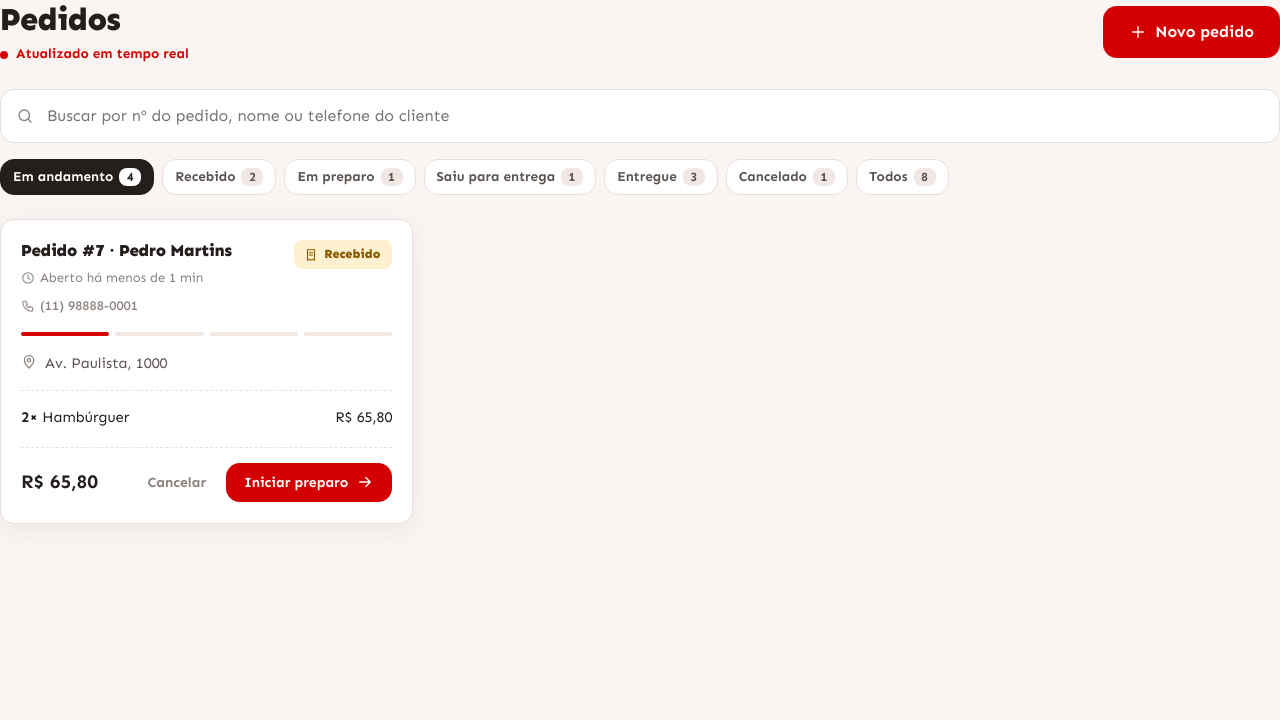
Test: OrdersPage › opens and closes the new order form
Expected: the heading "Pedido #7 · Pedro Martins" is shown, [21, 240, 232, 260]
Click the button "Novo pedido". click: click(1192, 32)
box: [1103, 6, 1279, 58]
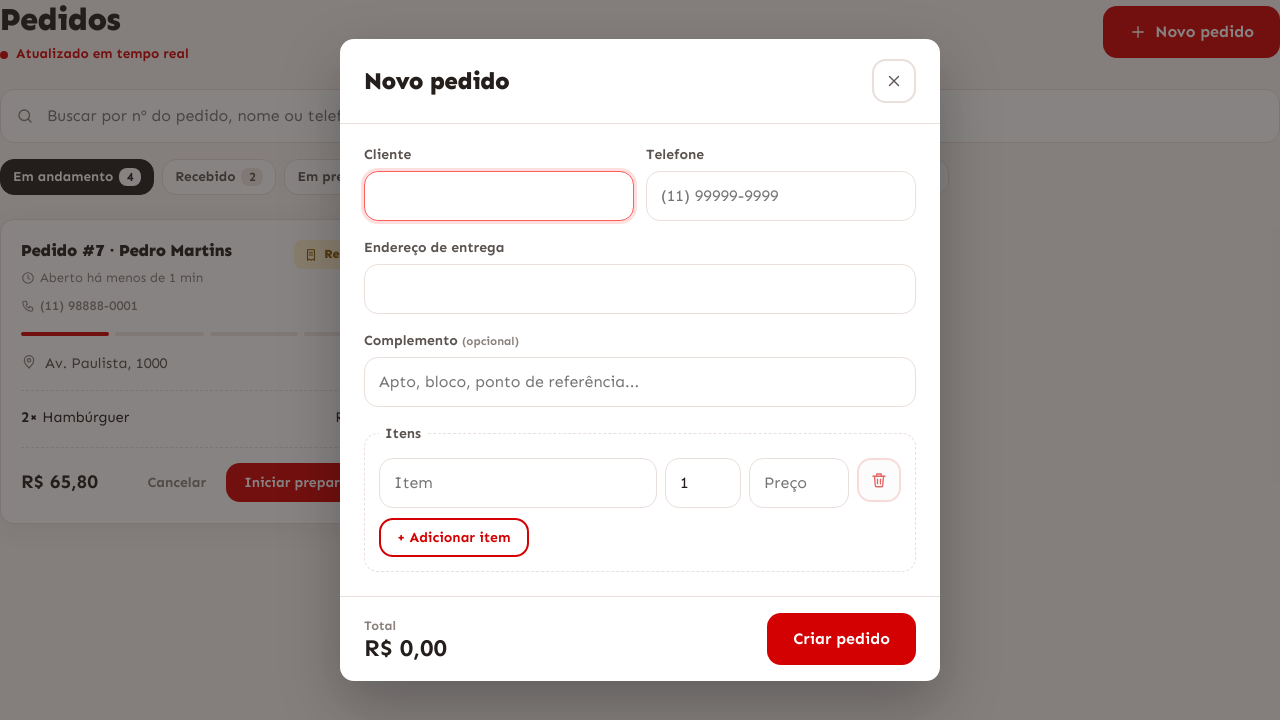
Expected: the dialog "Novo pedido" is shown
Click the button named "Fechar". click: click(894, 81)
box: [872, 59, 916, 103]
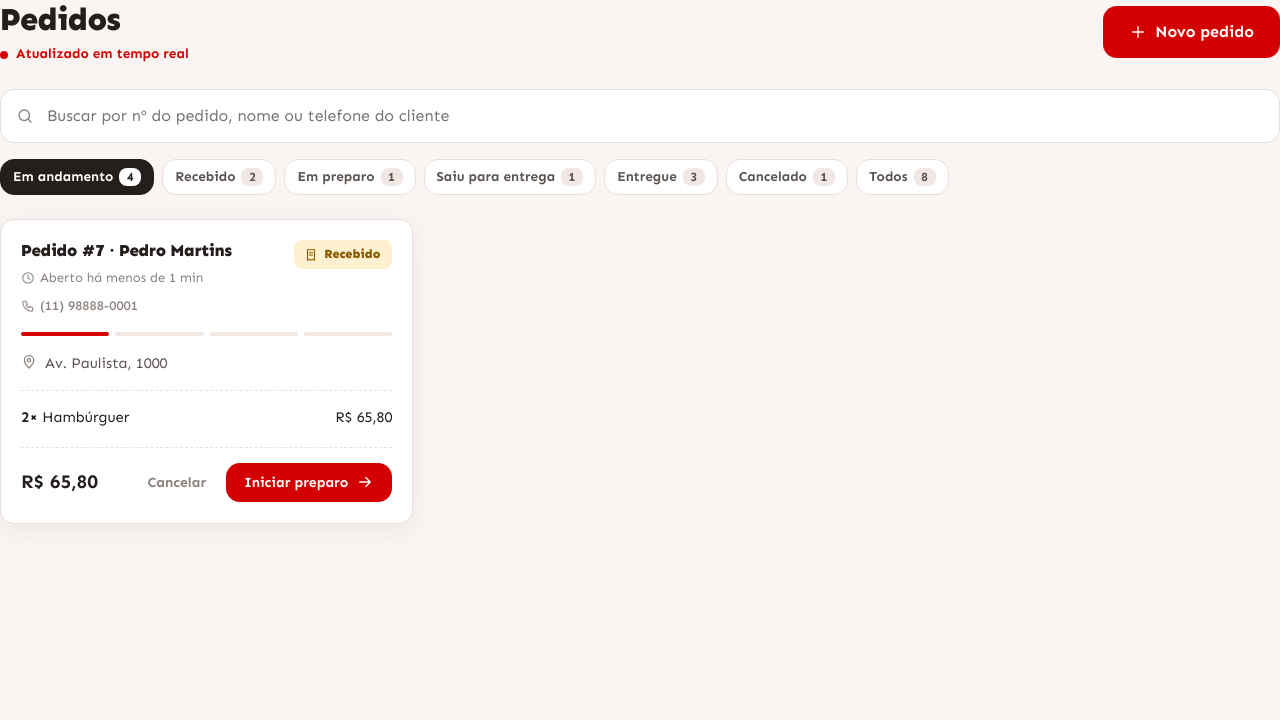
Expected: the dialog is gone
